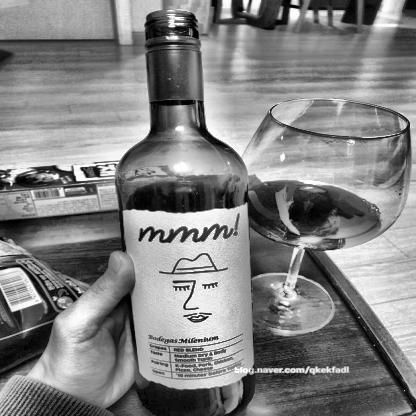umm: (126, 208, 258, 390)
